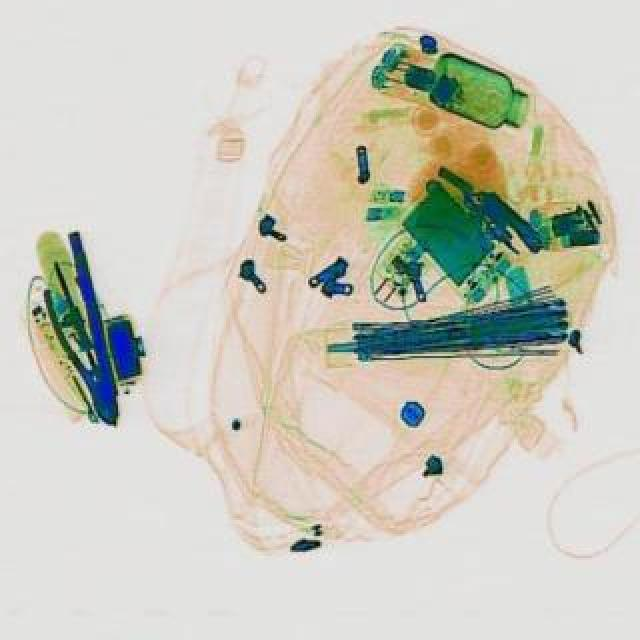wrench: (38, 272, 138, 430)
